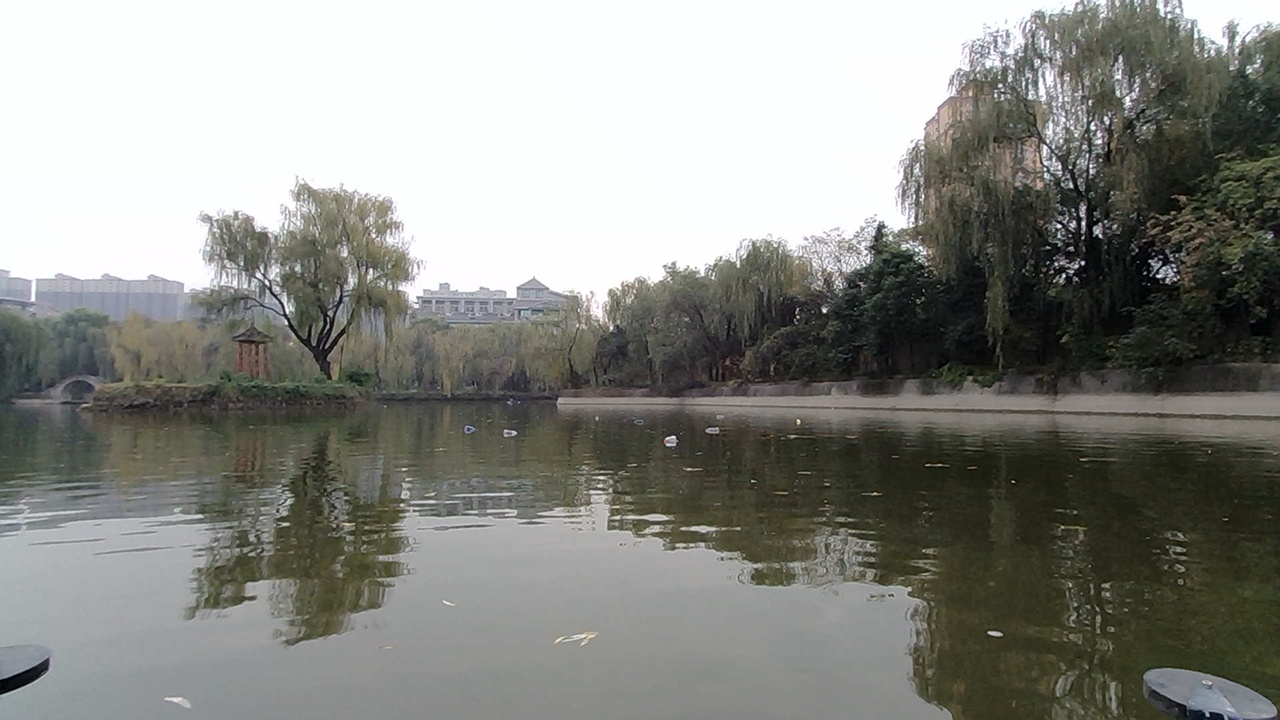bottle: (458, 407, 490, 442), (783, 407, 815, 437), (629, 405, 660, 430), (498, 417, 525, 444), (581, 402, 607, 424), (661, 431, 687, 450), (702, 417, 726, 434)
